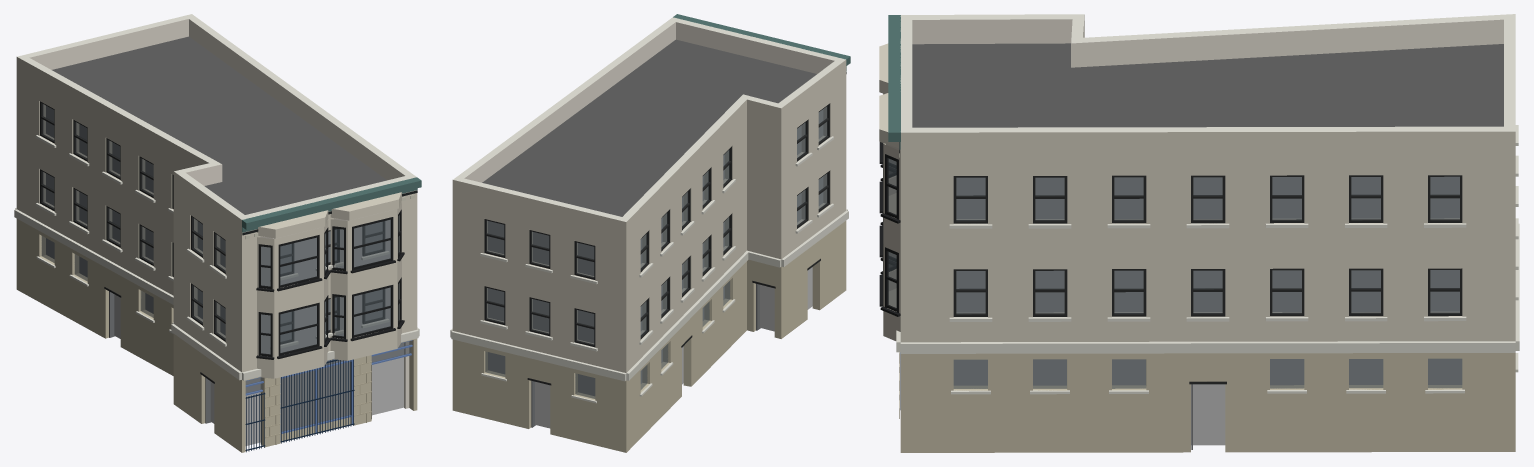
Rendered from exterior.glb.
3 renders of one model, left to right at view 1: azimuth 30°, elevation 25°; view 2: azimuth 150°, elevation 25°; view 3: azimuth 270°, elevation 25°, orthographic. The views are drawn at different scales.
Parts seen in each view (by area): view 1: shell, roof, shadow-proxy, bay-windows-sash, bay-glazing-sash, glazing, storefront, trim, frames, relief-0; view 2: shell, roof, glazing, trim, shadow-proxy, frames, relief-0, storefront; view 3: shell, roof, shadow-proxy, glazing, trim, frames, bay-windows-sash, bay-glazing-sash, relief-0.
Boxes of the visible parts, x1,y1,x2,y2 form: shell: (16, 14, 417, 452); roof: (52, 36, 386, 214); shadow-proxy: (46, 106, 403, 445); bay-windows-sash: (257, 192, 401, 378); bay-glazing-sash: (256, 209, 404, 359); glazing: (41, 104, 412, 431); storefront: (104, 287, 412, 452); trim: (14, 135, 419, 380); frames: (40, 101, 384, 344); relief-0: (242, 177, 421, 444); shell: (452, 17, 846, 452); roof: (482, 39, 816, 216); glazing: (485, 106, 827, 398); trim: (450, 136, 848, 403); shadow-proxy: (488, 110, 822, 428); frames: (484, 103, 829, 347); relief-0: (673, 14, 850, 73); storefront: (527, 258, 820, 427); shell: (900, 14, 1515, 452); roof: (912, 43, 1503, 127); shadow-proxy: (954, 177, 1461, 445); glazing: (953, 176, 1462, 388); trim: (896, 125, 1519, 394); frames: (953, 175, 1462, 316); bay-windows-sash: (879, 43, 900, 340); bay-glazing-sash: (879, 94, 900, 316); relief-0: (888, 15, 900, 418).
Size of the model in its own units: 8.42 by 10.3 by 18.66.
